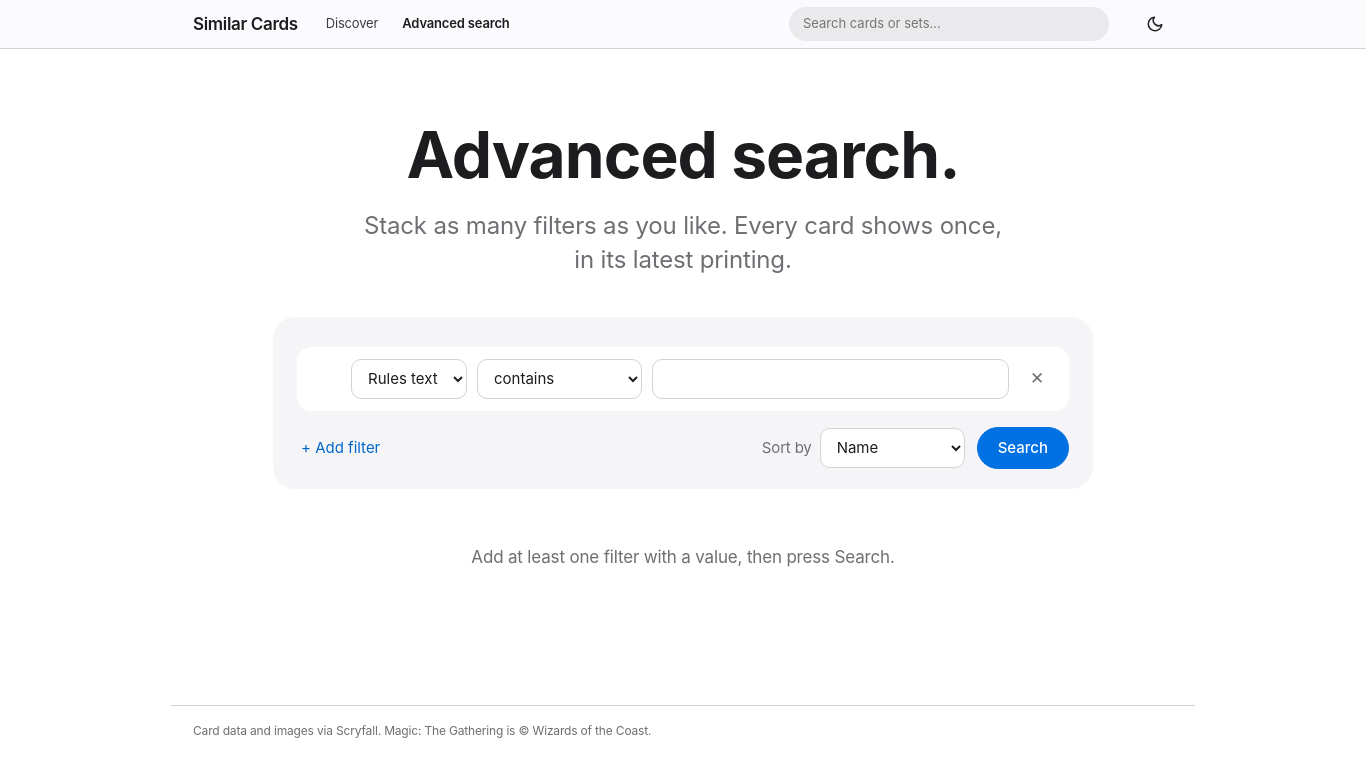
it: AdvancedSearchPage › resets a Type value when switching between list and text conditions
Step 1. Select "Type" in the dropdown named "Field" → (409, 379), box [351,359,467,399]
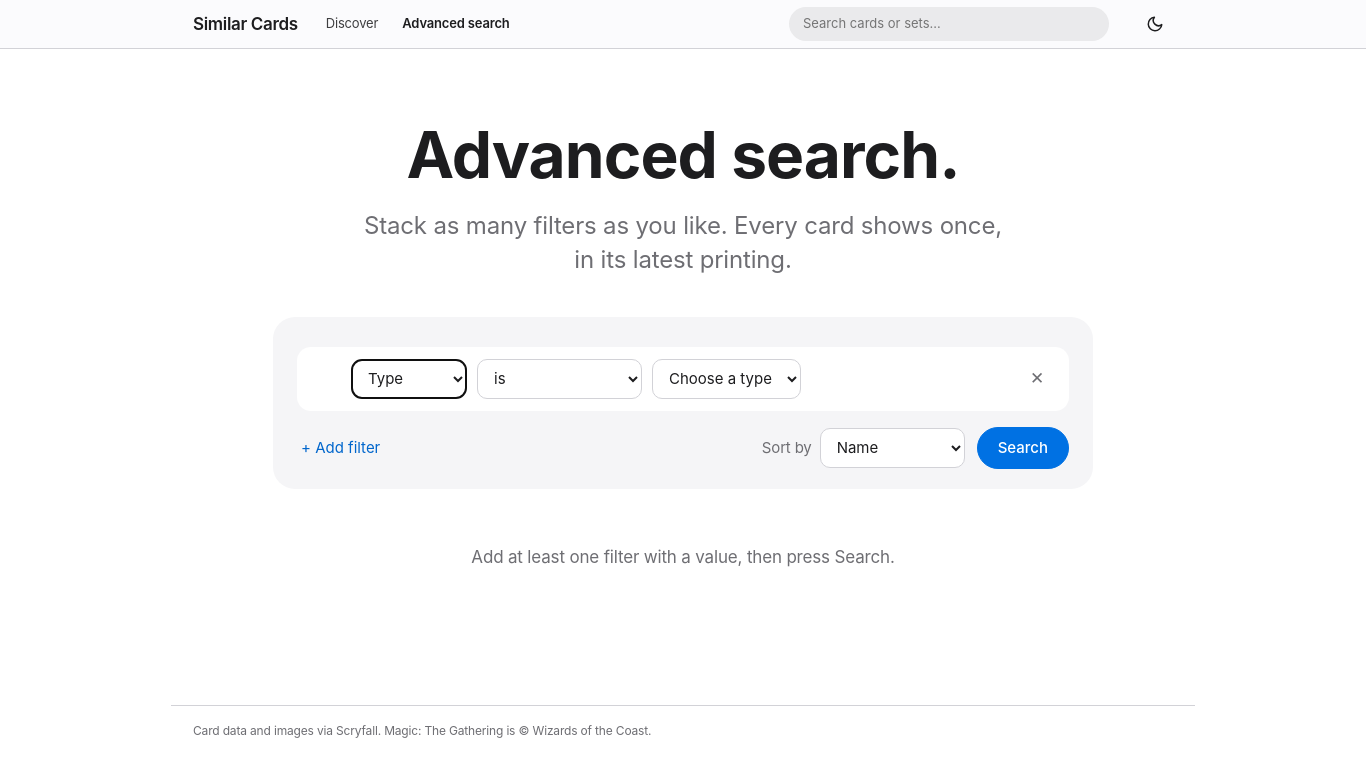
Step 2. Select "Land" in the dropdown named "Value" → (726, 379), box [652,359,801,399]
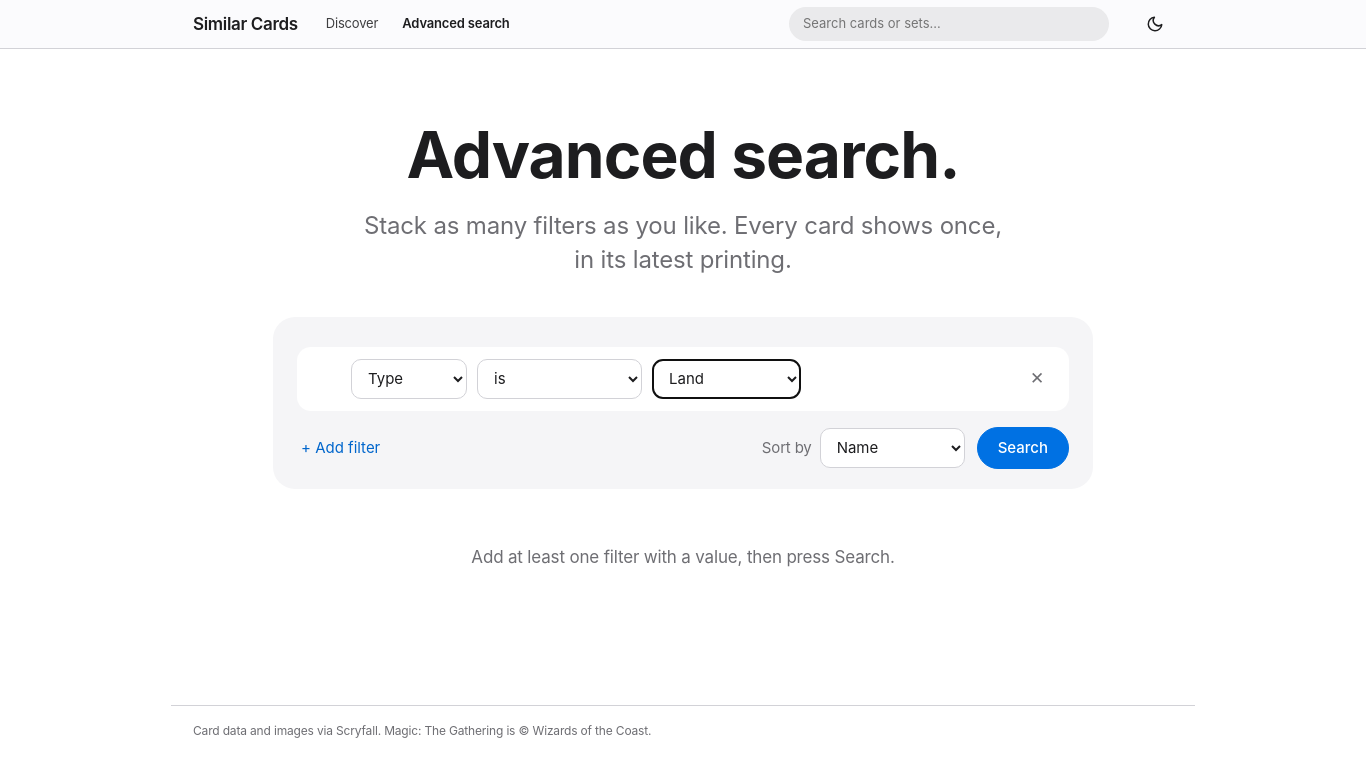
Step 3. Select "contains" in the dropdown named "Condition" → (560, 379), box [477,359,642,399]
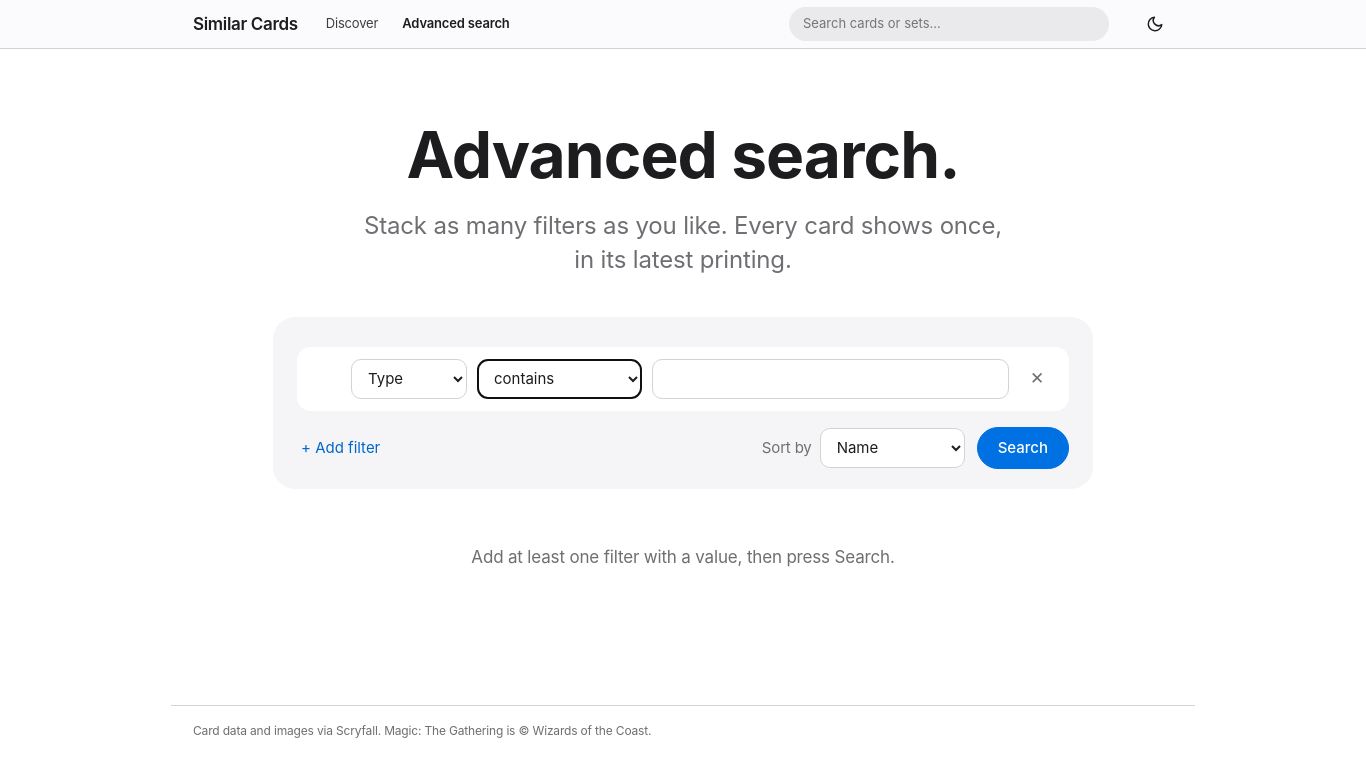
Check: the field named "Value" is empty
Step 4. Type "goblin" into the field named "Value" → (830, 379), box [652,359,1009,399]
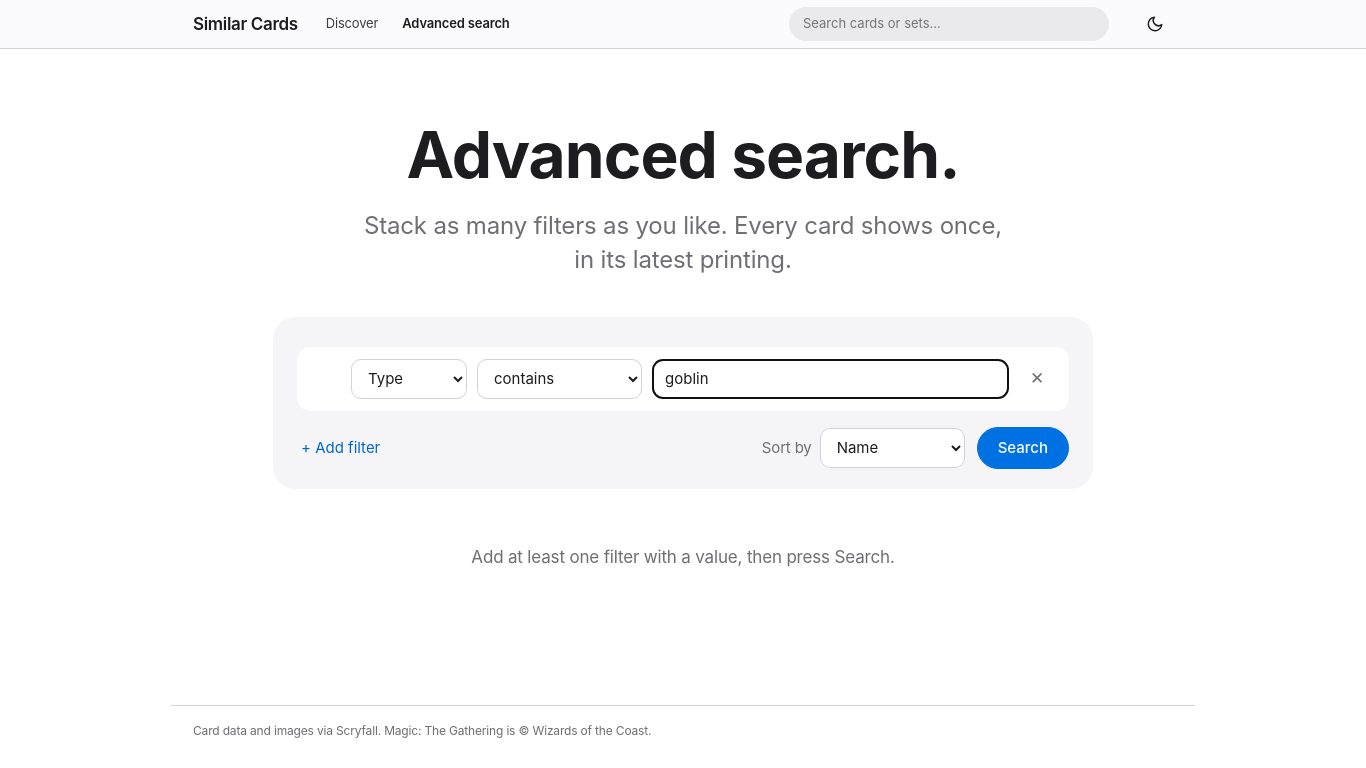
Step 5. Select "is not" in the dropdown named "Condition" → (560, 379), box [477,359,642,399]
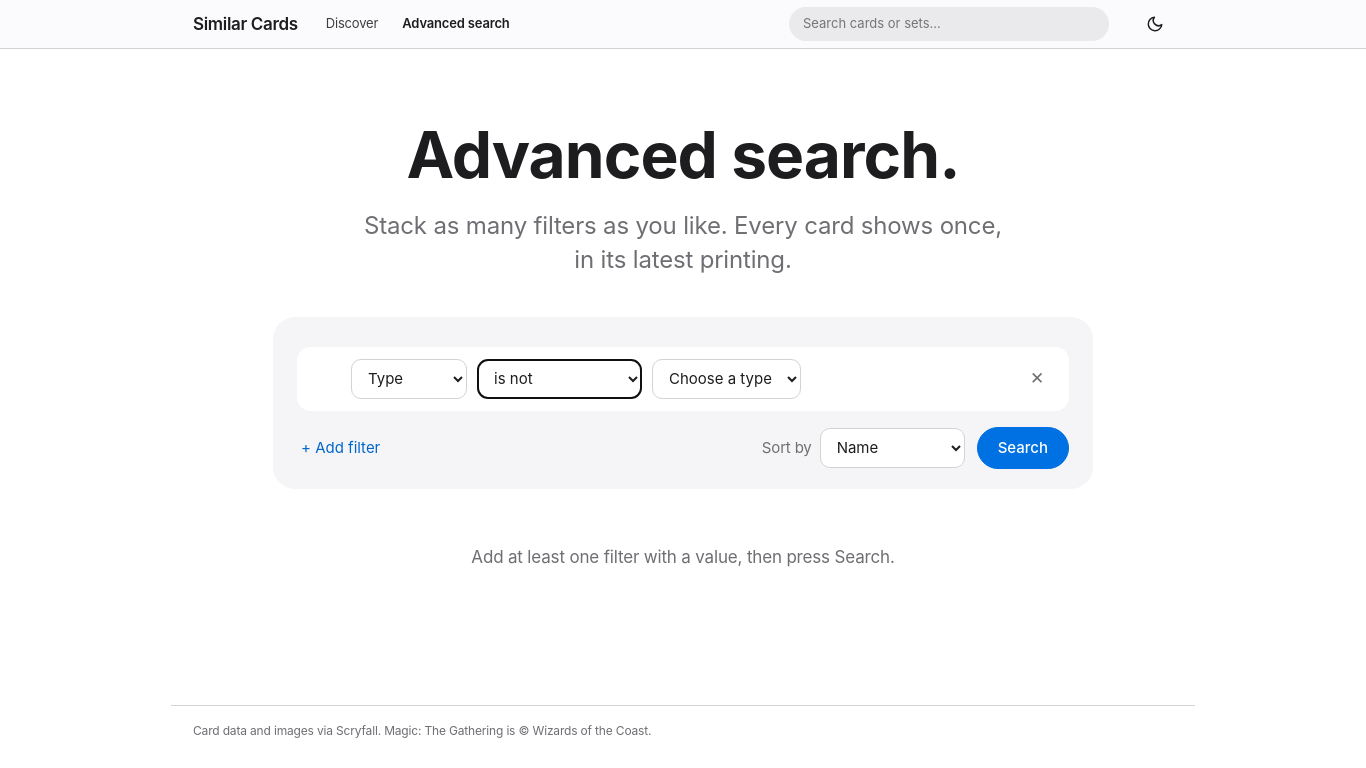
Check: the dropdown named "Value" shows "Choose a type", box [652,359,801,399]
